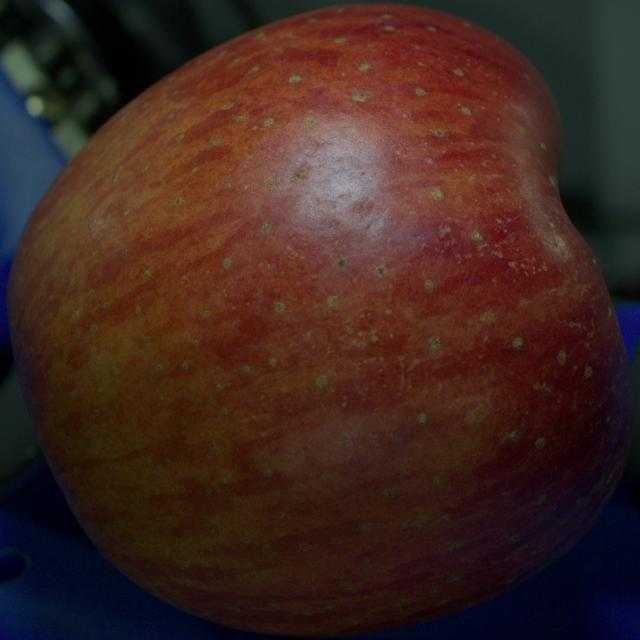apple: (8, 4, 632, 636)
